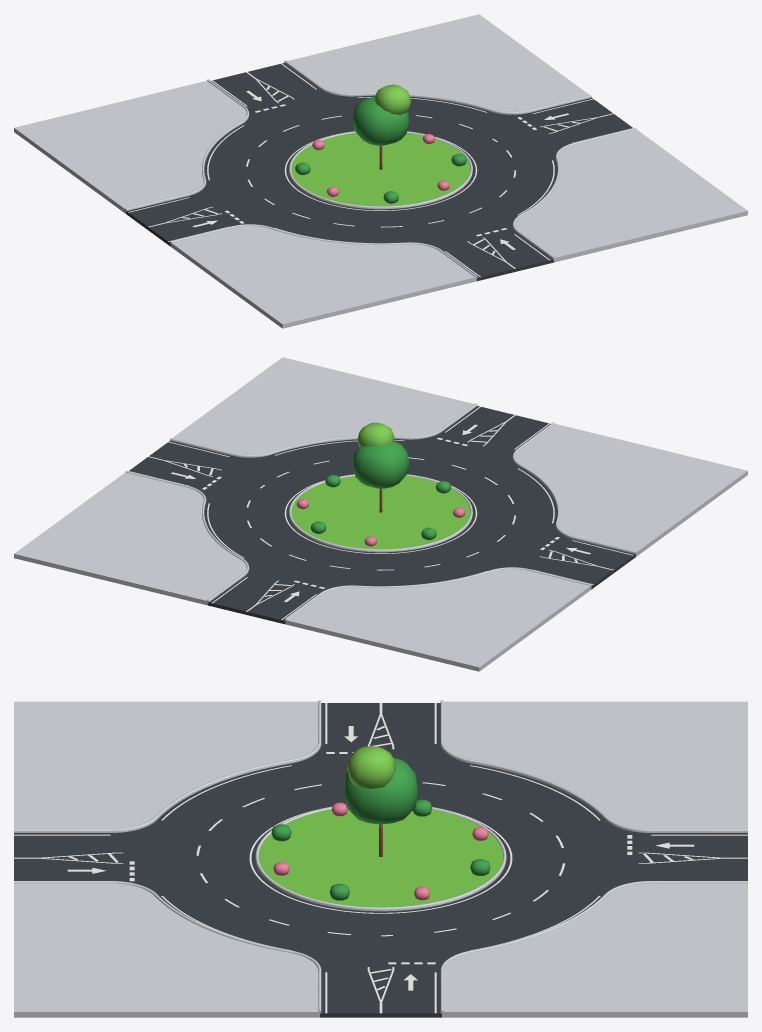
Rendered from rotatoria_grande.glb.
3 renders of one model, top to bottom at view 1: azimuth 30°, elevation 25°; view 2: azimuth 150°, elevation 25°; view 3: azimuth 270°, elevation 25°, orthographic. The views are drawn at different scales.
Parts seen in each view (by area): view 1: rotatoria_grande; view 2: rotatoria_grande; view 3: rotatoria_grande.
Part boxes in pixels (x1,y1,x2,y2): rotatoria_grande: [14, 14, 747, 328]; rotatoria_grande: [14, 357, 747, 671]; rotatoria_grande: [14, 700, 747, 1017].
Bounding box in the file's own units: 45 × 8.01 × 45.
Materials: 1 (1 with a texture image).
